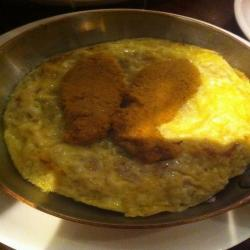omelette: (15, 43, 245, 207)
